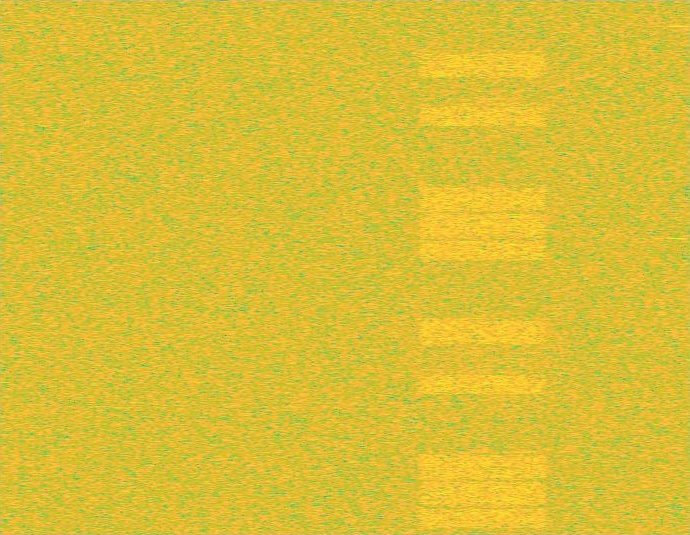LTE: (414, 0, 552, 534)
Radar: (671, 0, 685, 534)
